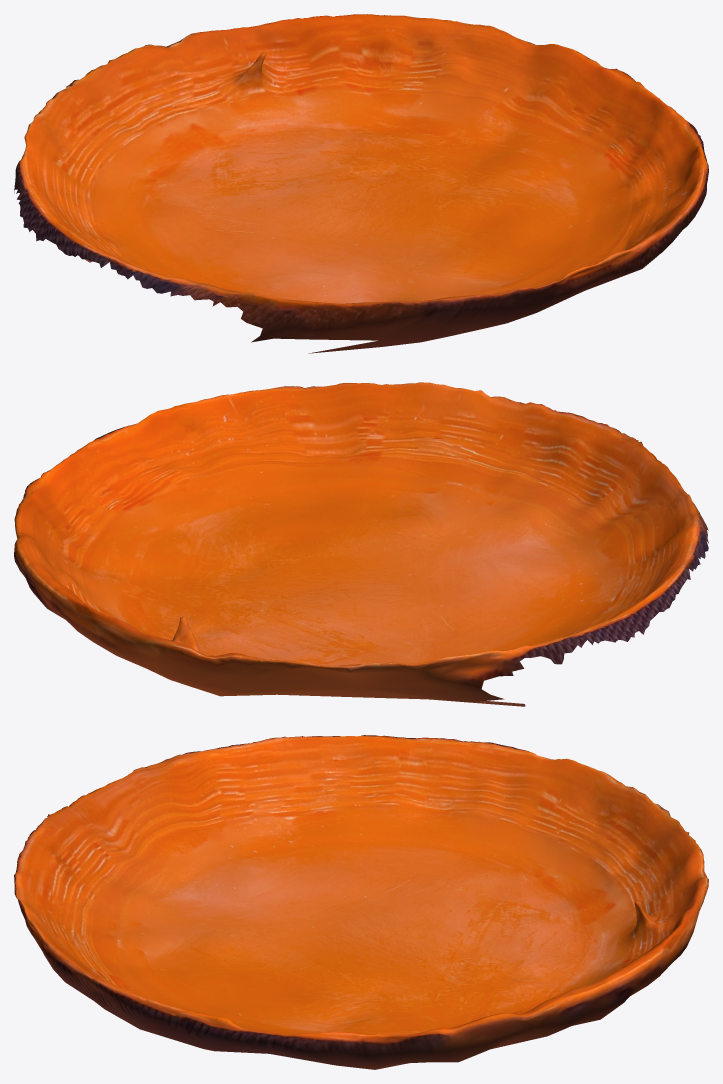
Rendered from orange_plate.obj.
3 renders of one model, top to bottom at view 1: azimuth 30°, elevation 25°; view 2: azimuth 150°, elevation 25°; view 3: azimuth 270°, elevation 25°, orthographic.
Parts seen in each view (by area): view 1: orange_plate; view 2: orange_plate; view 3: orange_plate.
Part boxes in pixels (x1=…): orange_plate: x1=14, y1=14, x2=708, y2=353; orange_plate: x1=14, y1=382, x2=708, y2=706; orange_plate: x1=14, y1=735, x2=708, y2=1069.
Size of the model in its own units: 0.2887 by 0.0425 by 0.2833.
1 material, 1 textured.
